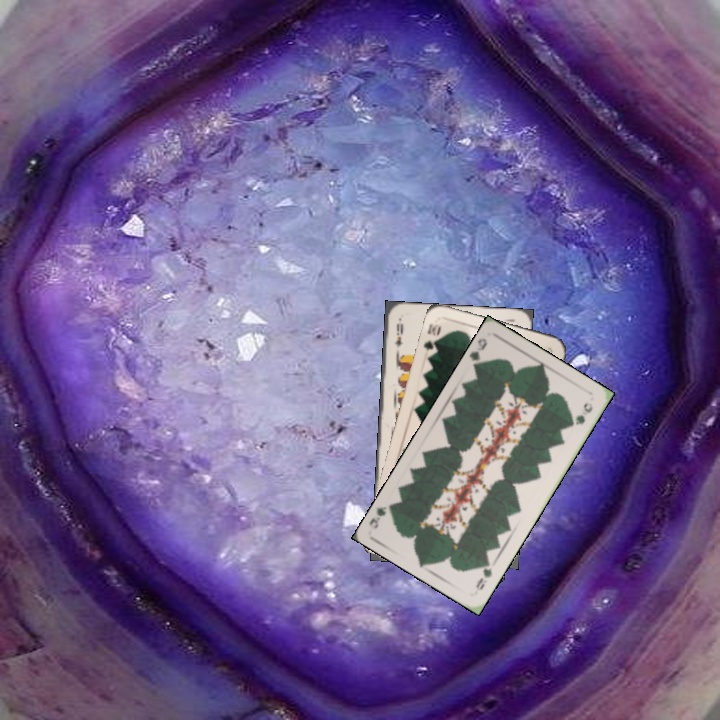E9: (390, 319, 406, 350)
G10: (419, 319, 444, 358)
G9: (466, 334, 490, 373), (472, 555, 495, 594)
